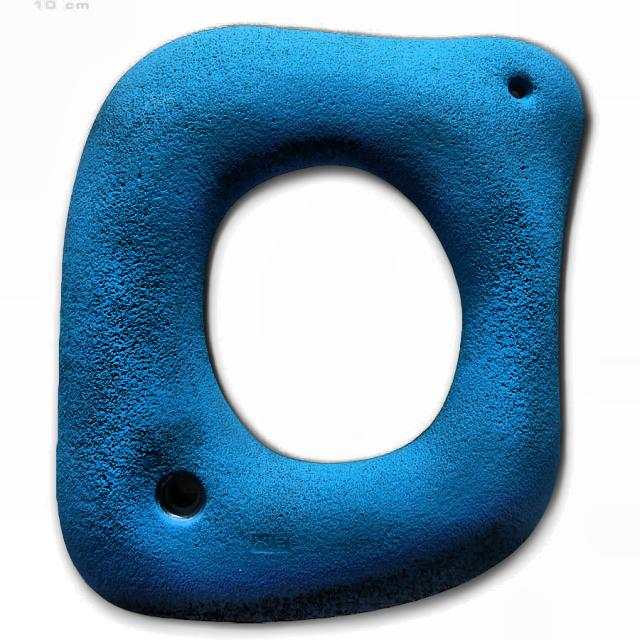Hold: (52, 21, 590, 626)
